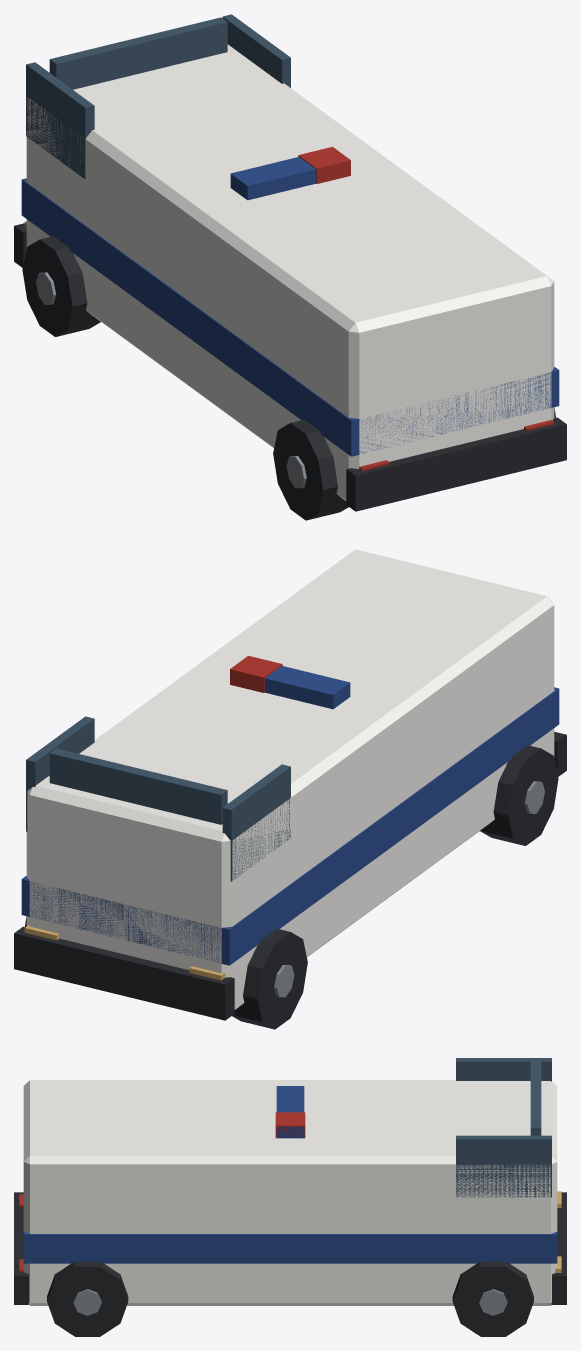
The model's file is vehicle.police-van.glb.
3 renders of one model, top to bottom at view 1: azimuth 30°, elevation 25°; view 2: azimuth 150°, elevation 25°; view 3: azimuth 270°, elevation 25°, orthographic. The views are drawn at different scales.
Parts seen in each view (by area): view 1: vehicle.police-van; view 2: vehicle.police-van; view 3: vehicle.police-van.
Boxes of the visible parts, <box> form: vehicle.police-van: <box>14,14,566,520</box>; vehicle.police-van: <box>14,549,566,1029</box>; vehicle.police-van: <box>14,1058,566,1336</box>.
Size of the model in its own units: 2.11 by 2.03 by 5.18.
